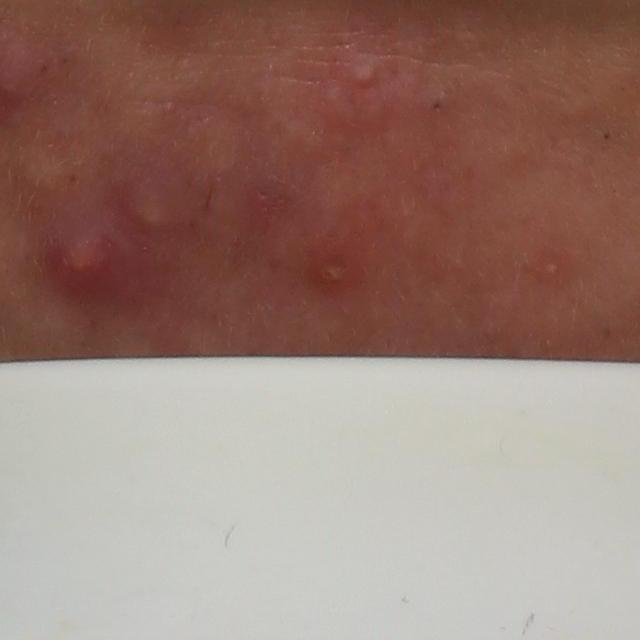papule: (177, 102, 241, 187), (49, 227, 120, 291), (117, 174, 175, 232), (345, 54, 380, 92)
pustule: (313, 249, 358, 292)
